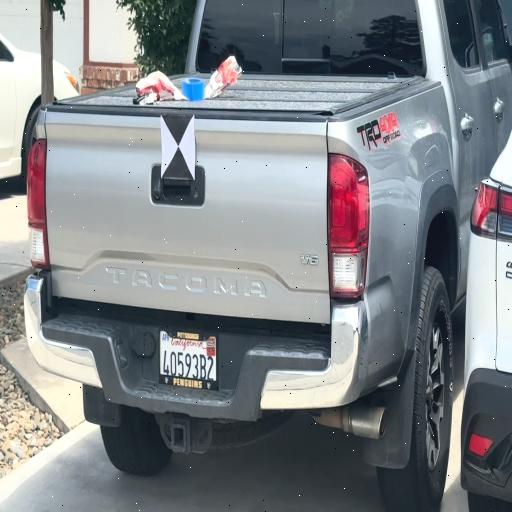target: (161, 115, 195, 179)
